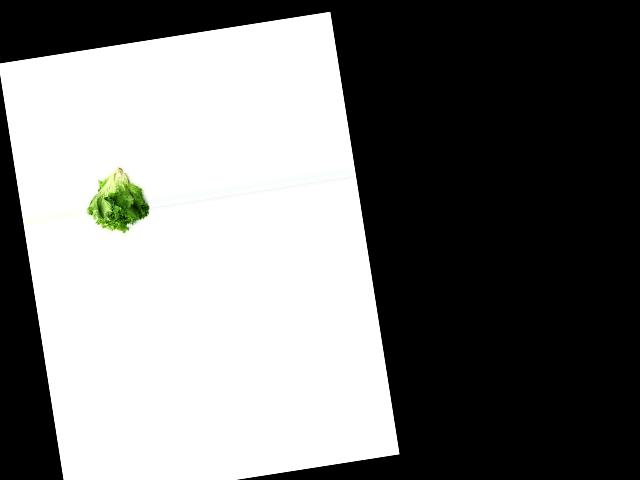lettuce: (79, 163, 153, 236)
